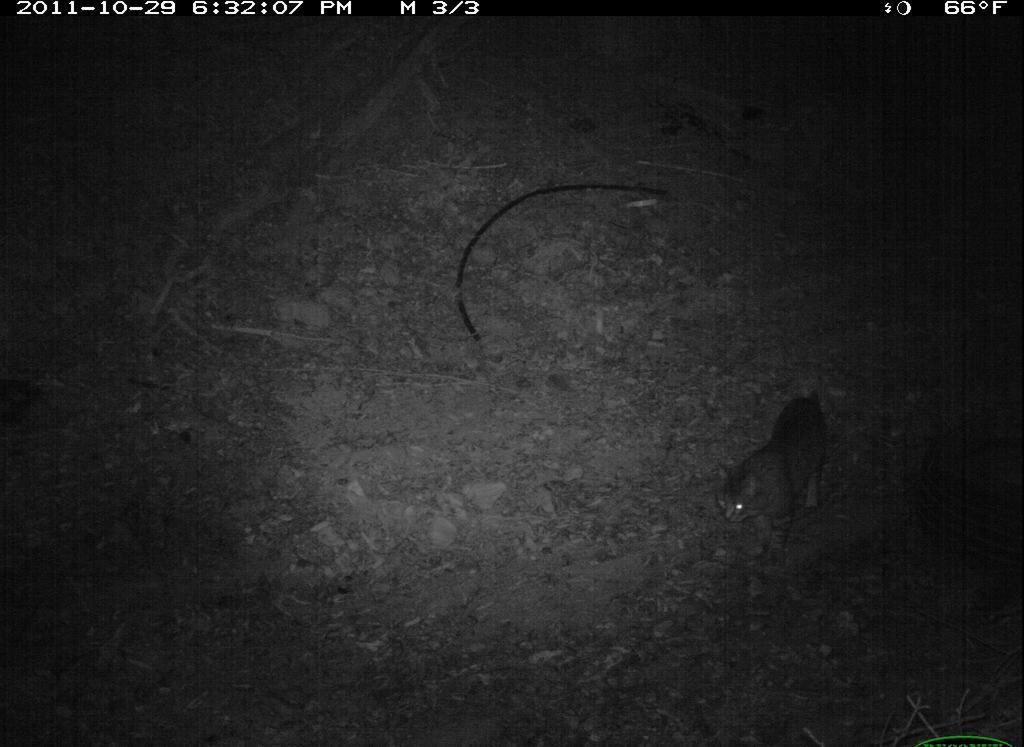cat: (712, 379, 847, 577)
